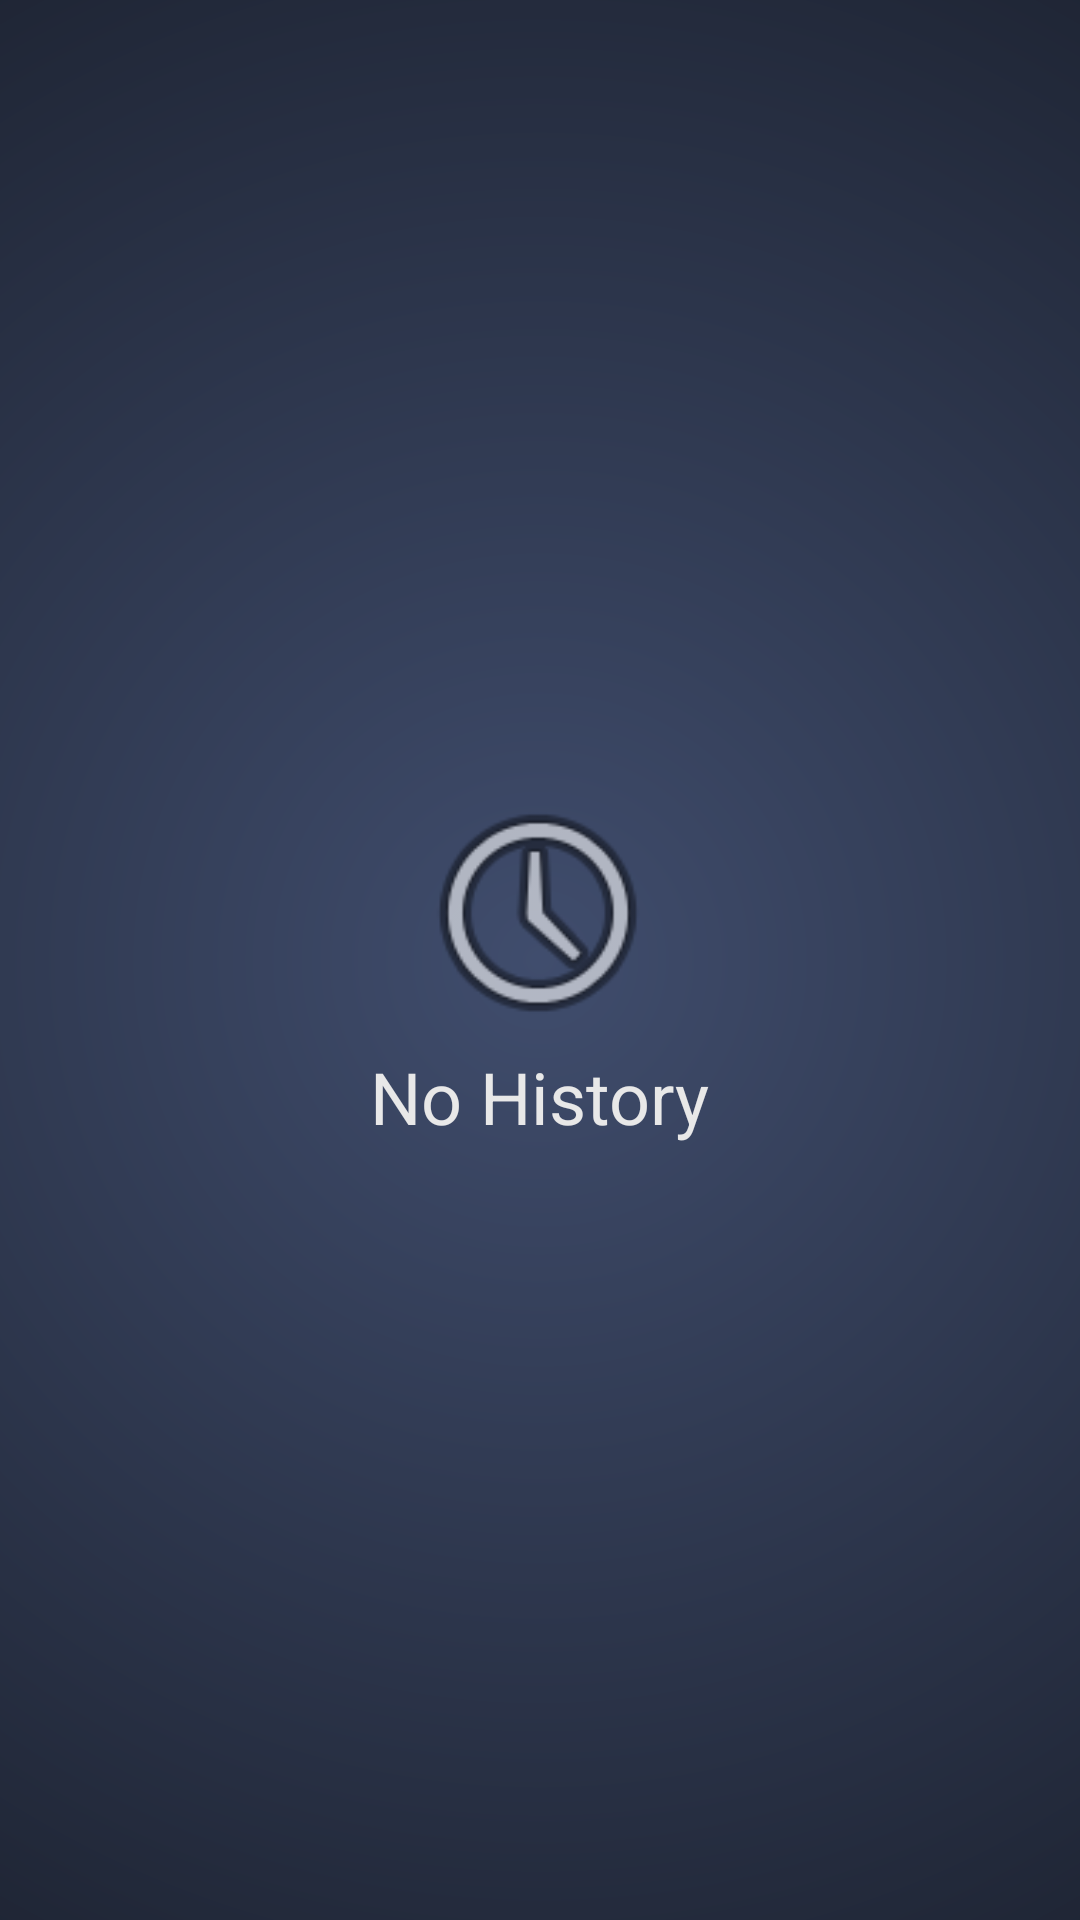

Icon bounding boxes for this 1080x1920 phone screenshot, format region(x1, y1, x2, y2):
recent history: region(440, 815, 636, 1010)
